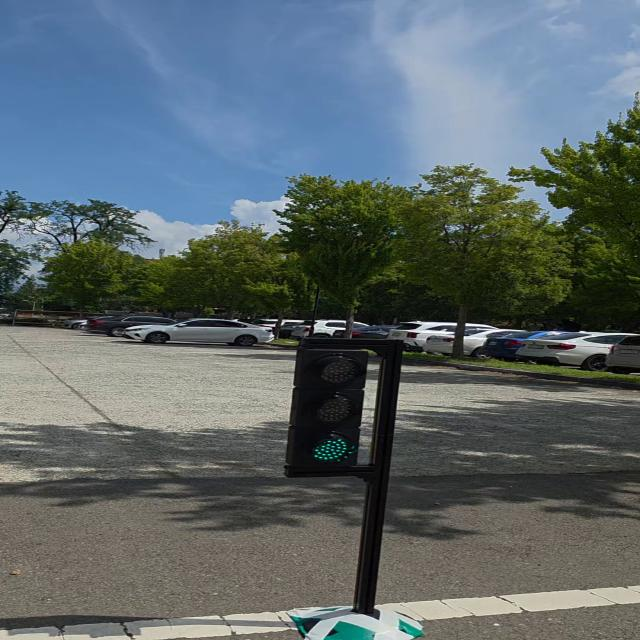green: (282, 349, 368, 477)
